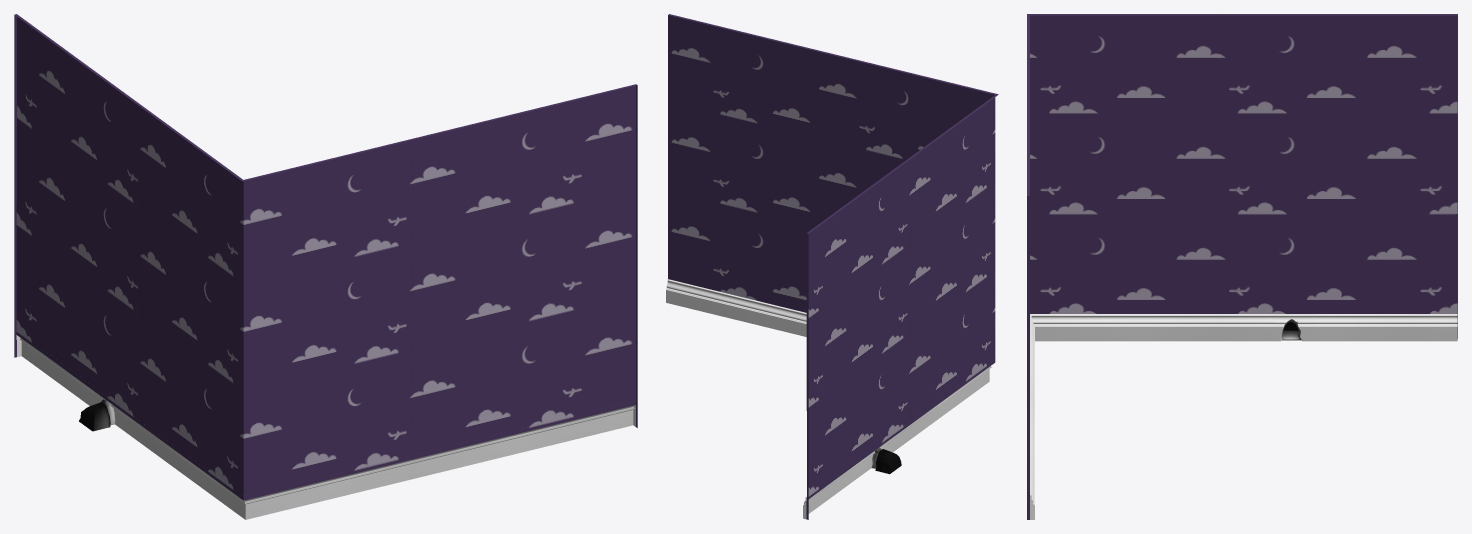
Rendered from Wall.glb.
The picture shows the model from 3 angles, left to right: view 1: azimuth 30°, elevation 25°; view 2: azimuth 150°, elevation 25°; view 3: azimuth 270°, elevation 25°; orthographic projection. The views are drawn at different scales.
Visible parts, largest first — view 1: Wall.001; view 2: Wall.001; view 3: Wall.001.
Part boxes in pixels (x1,y1,x2,y2): Wall.001: (14, 14, 637, 519); Wall.001: (666, 14, 998, 519); Wall.001: (1027, 14, 1457, 519).
Size of the model in its own units: 52.25 by 41.65 by 50.15.
1 material, 1 textured.
